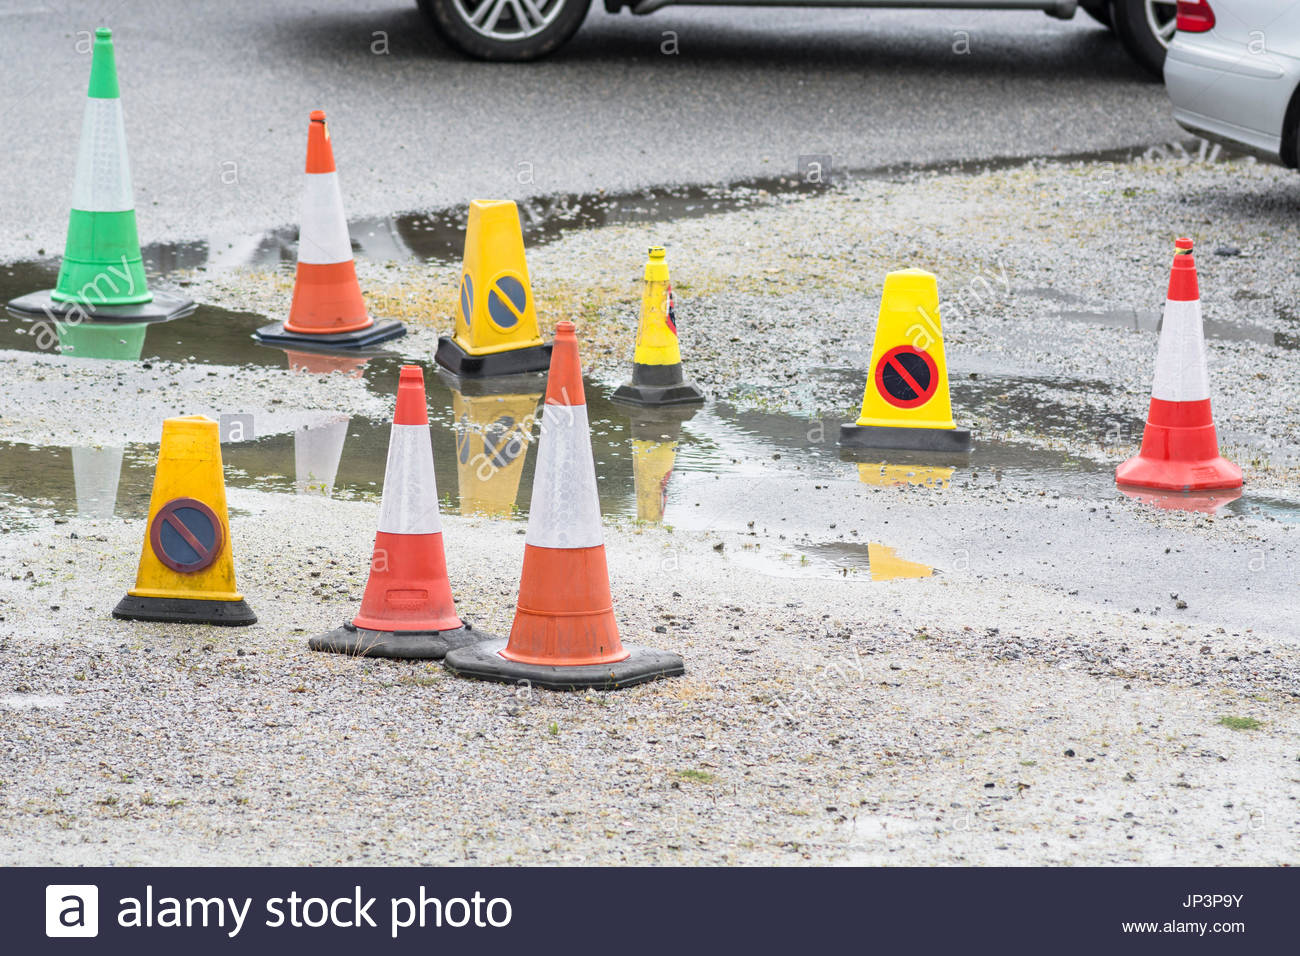cone: (448, 323, 687, 688), (5, 28, 200, 332), (307, 366, 499, 666), (250, 113, 402, 357), (1117, 239, 1255, 493), (114, 412, 263, 627), (838, 265, 972, 461), (436, 196, 560, 379), (614, 244, 709, 410)
